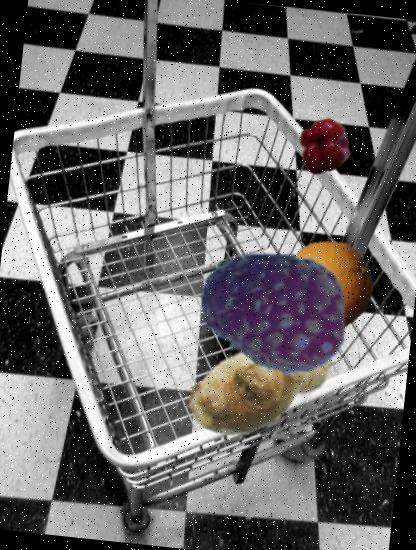Ginger: (177, 303, 342, 468)
Orange: (278, 235, 379, 336)
Pepper: (294, 117, 354, 176)
Raspberry: (190, 234, 354, 398)
Tamarillo: (237, 309, 296, 368)
